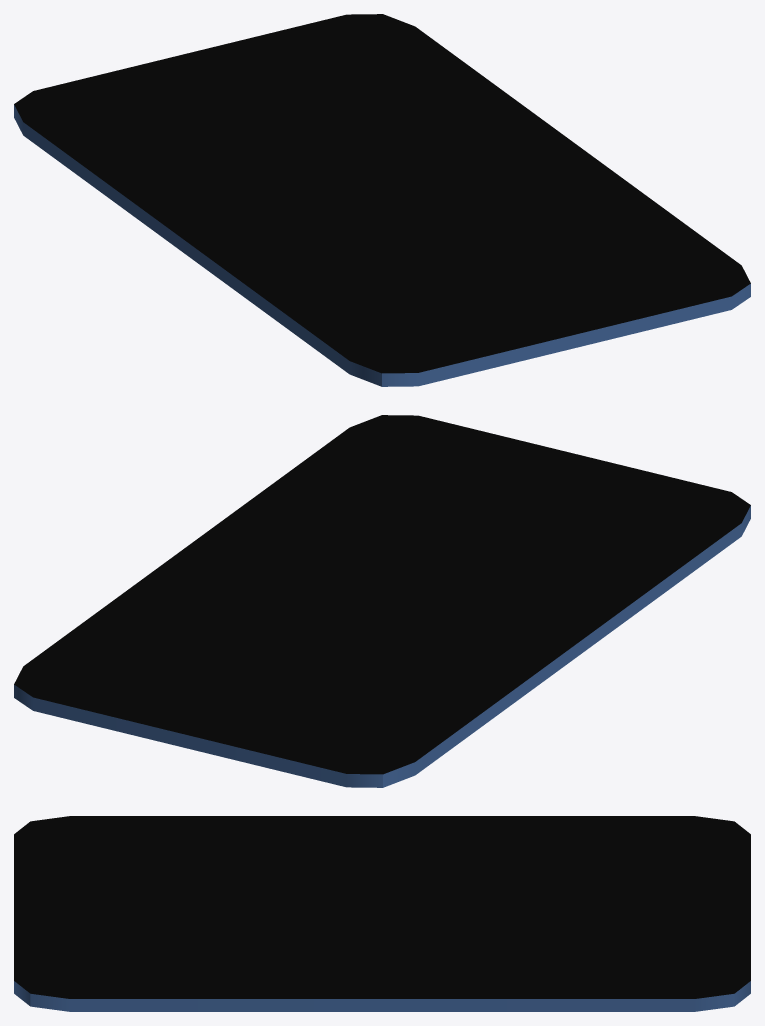
The model's file is CreditCard.fbx.
3 renders of one model, top to bottom at view 1: azimuth 30°, elevation 25°; view 2: azimuth 150°, elevation 25°; view 3: azimuth 270°, elevation 25°, orthographic. The views are drawn at different scales.
Visible parts, largest first — view 1: CreditCard; view 2: CreditCard; view 3: CreditCard.
Part boxes in pixels (box(x1,y1,x2,y2)): CreditCard: box(14, 14, 750, 386); CreditCard: box(14, 415, 750, 787); CreditCard: box(14, 816, 750, 1011).
Size of the model in its own units: 4.33 by 0.142 by 7.37.
